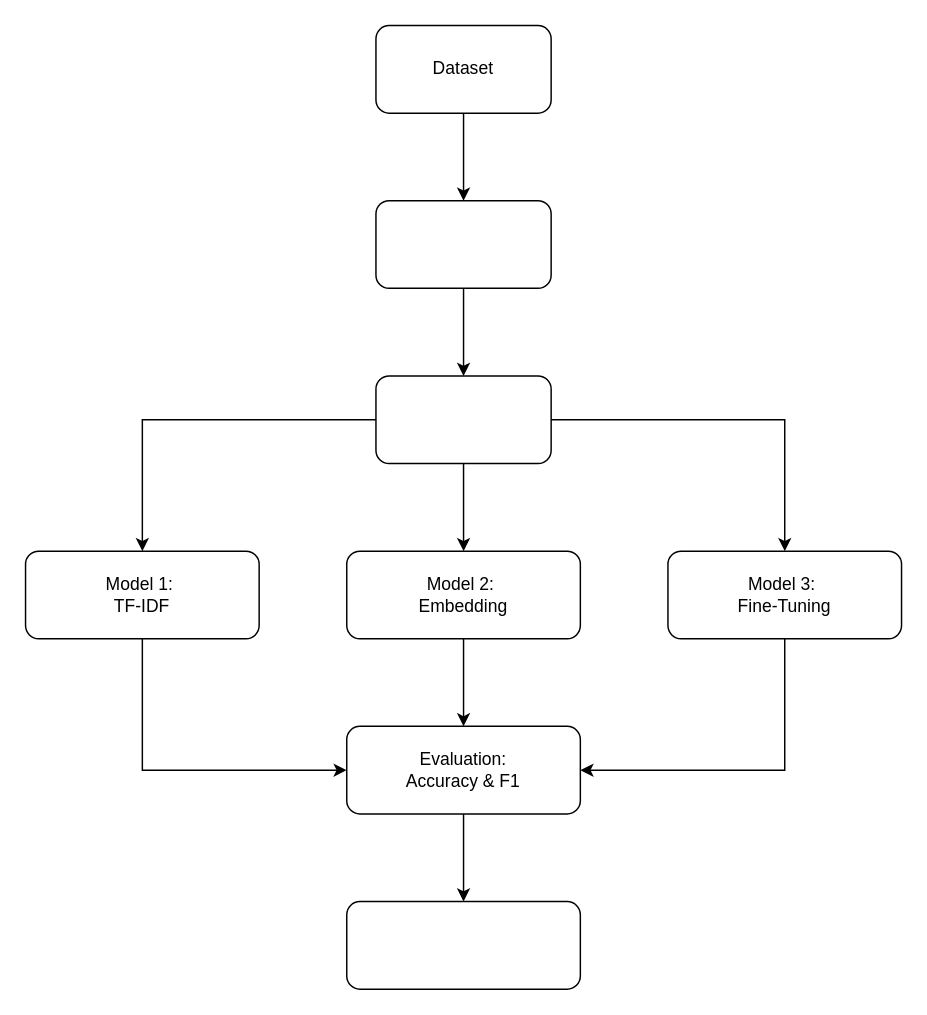
Some shapes in this 927 by 1015 pixel diagram are drawn without their labels. The shapes that lost their labels are listed below. From the top down, each one's box as (x1, y1, x2, y2) in pixels, then its label:
(374, 199, 551, 288): Preprocessing
(374, 374, 551, 464): Train/Test Split
(345, 900, 580, 989): Inference
